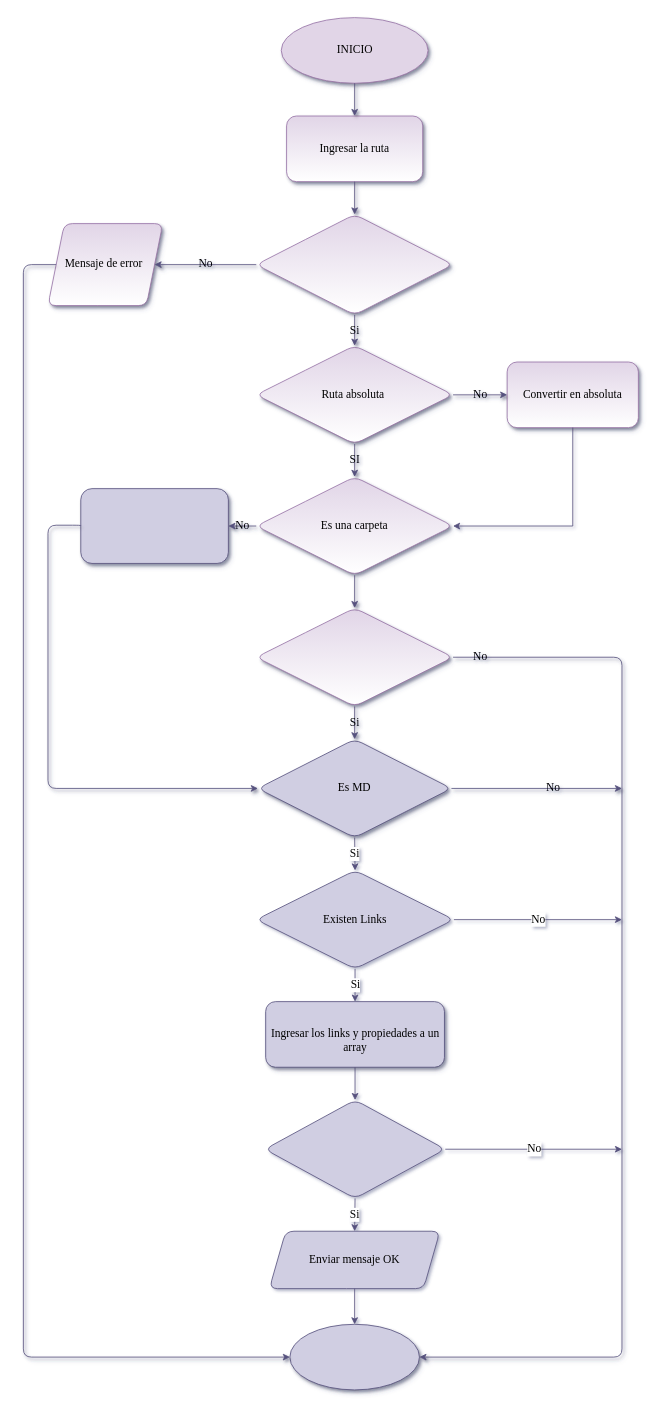
Some shapes in this 663 by 1415 pixel diagram are drawn without their labels. The shapes that lost their labels are listed below. From the top down, each one's centre as x and y in pixels, then its label:
At point (355, 265): "La ruta existe".
At point (155, 527): "Recorrer archivos fuera de la carpeta".
At point (355, 658): "Verificar la existencia de archivos".
At point (354, 1148): "El estatus de los links es de 200".
At point (355, 1358): "FIN".
